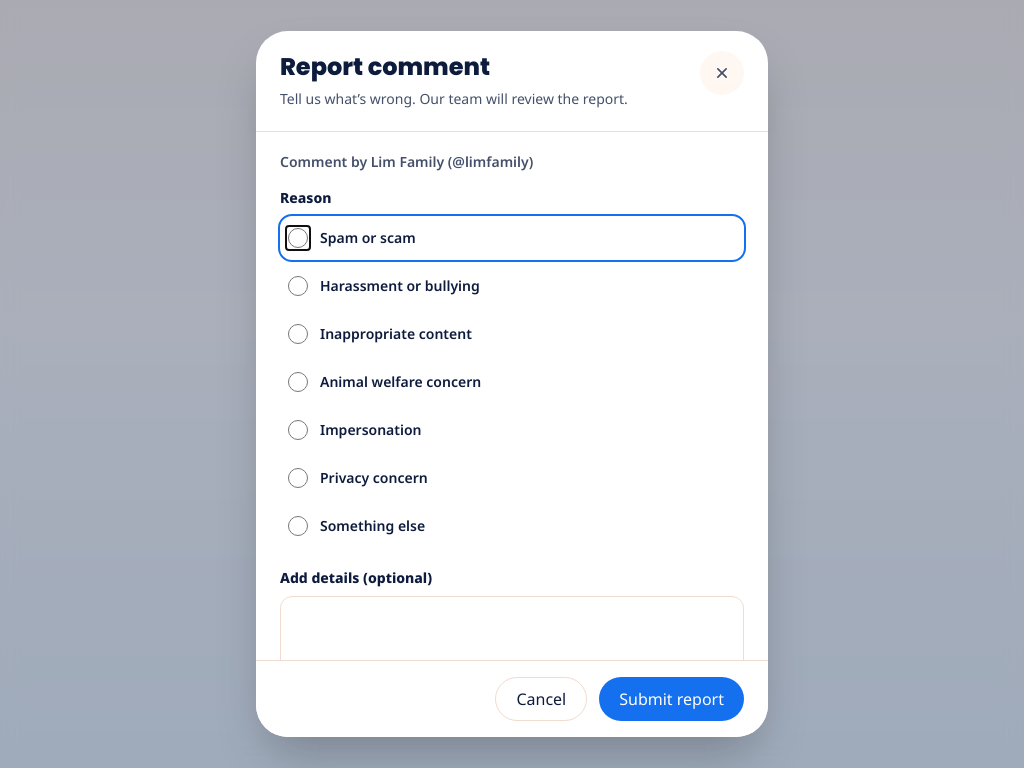
Test: Community report dialog › handles profile without showing a technical code
Click the radio button labelled "Spam or scam": click(298, 238) [288,228,308,248]
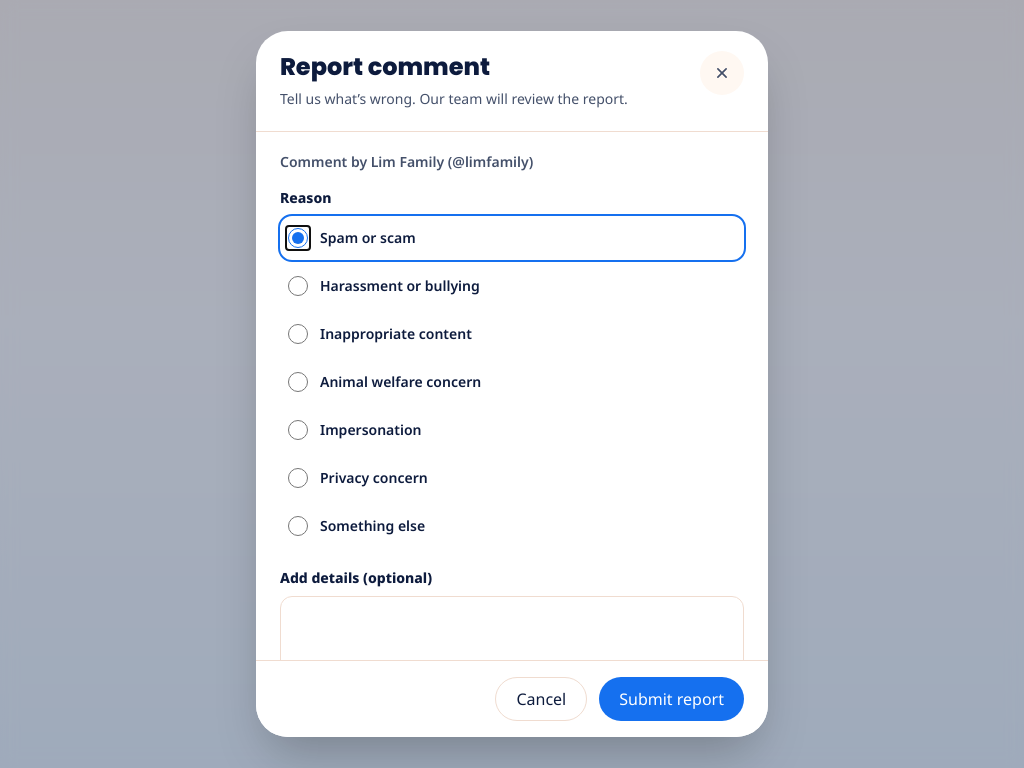
Click the button "Submit report": click(672, 699) [599,677,744,721]
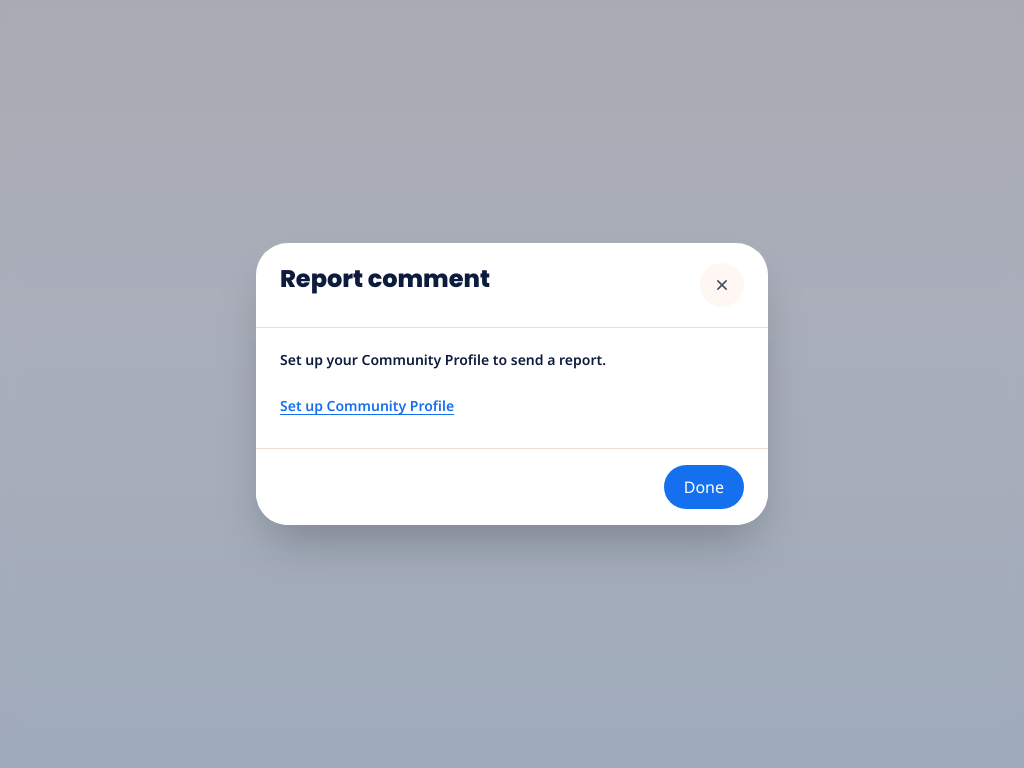
Result: the text "Set up your Community Profile to send a report." is shown at [280,350,606,369]
